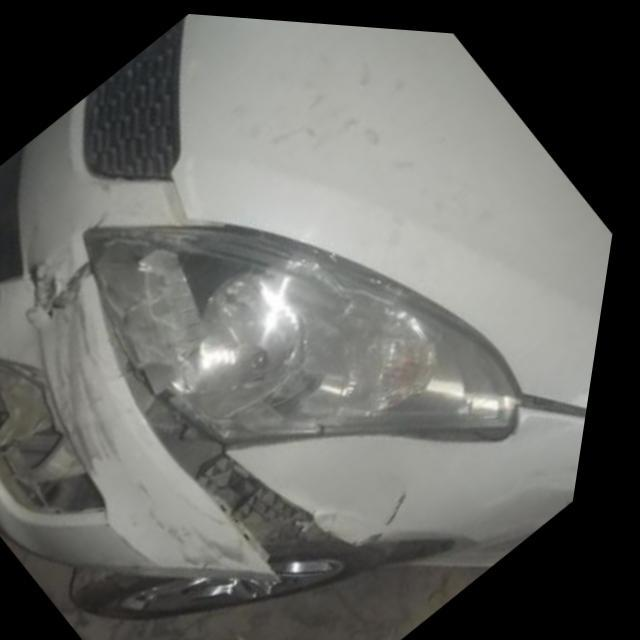crack: (24, 249, 97, 325), (393, 480, 427, 522)
dislocated part: (117, 324, 373, 574)
lamp broken: (99, 209, 363, 449)
no part: (0, 355, 123, 519)
rub: (43, 302, 138, 471), (144, 484, 265, 564)
